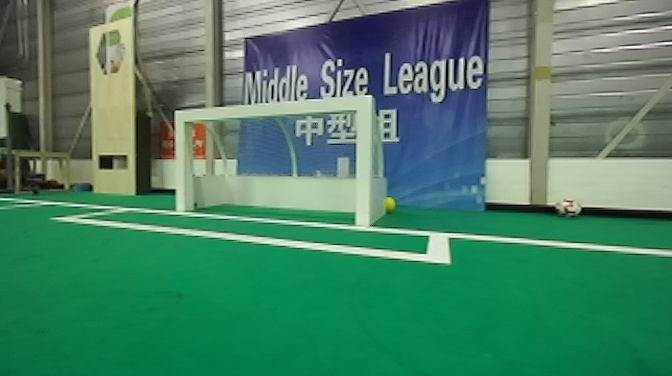ball: (552, 194, 589, 219), (375, 190, 399, 216)
goalpost: (350, 94, 380, 235), (170, 104, 201, 219)
